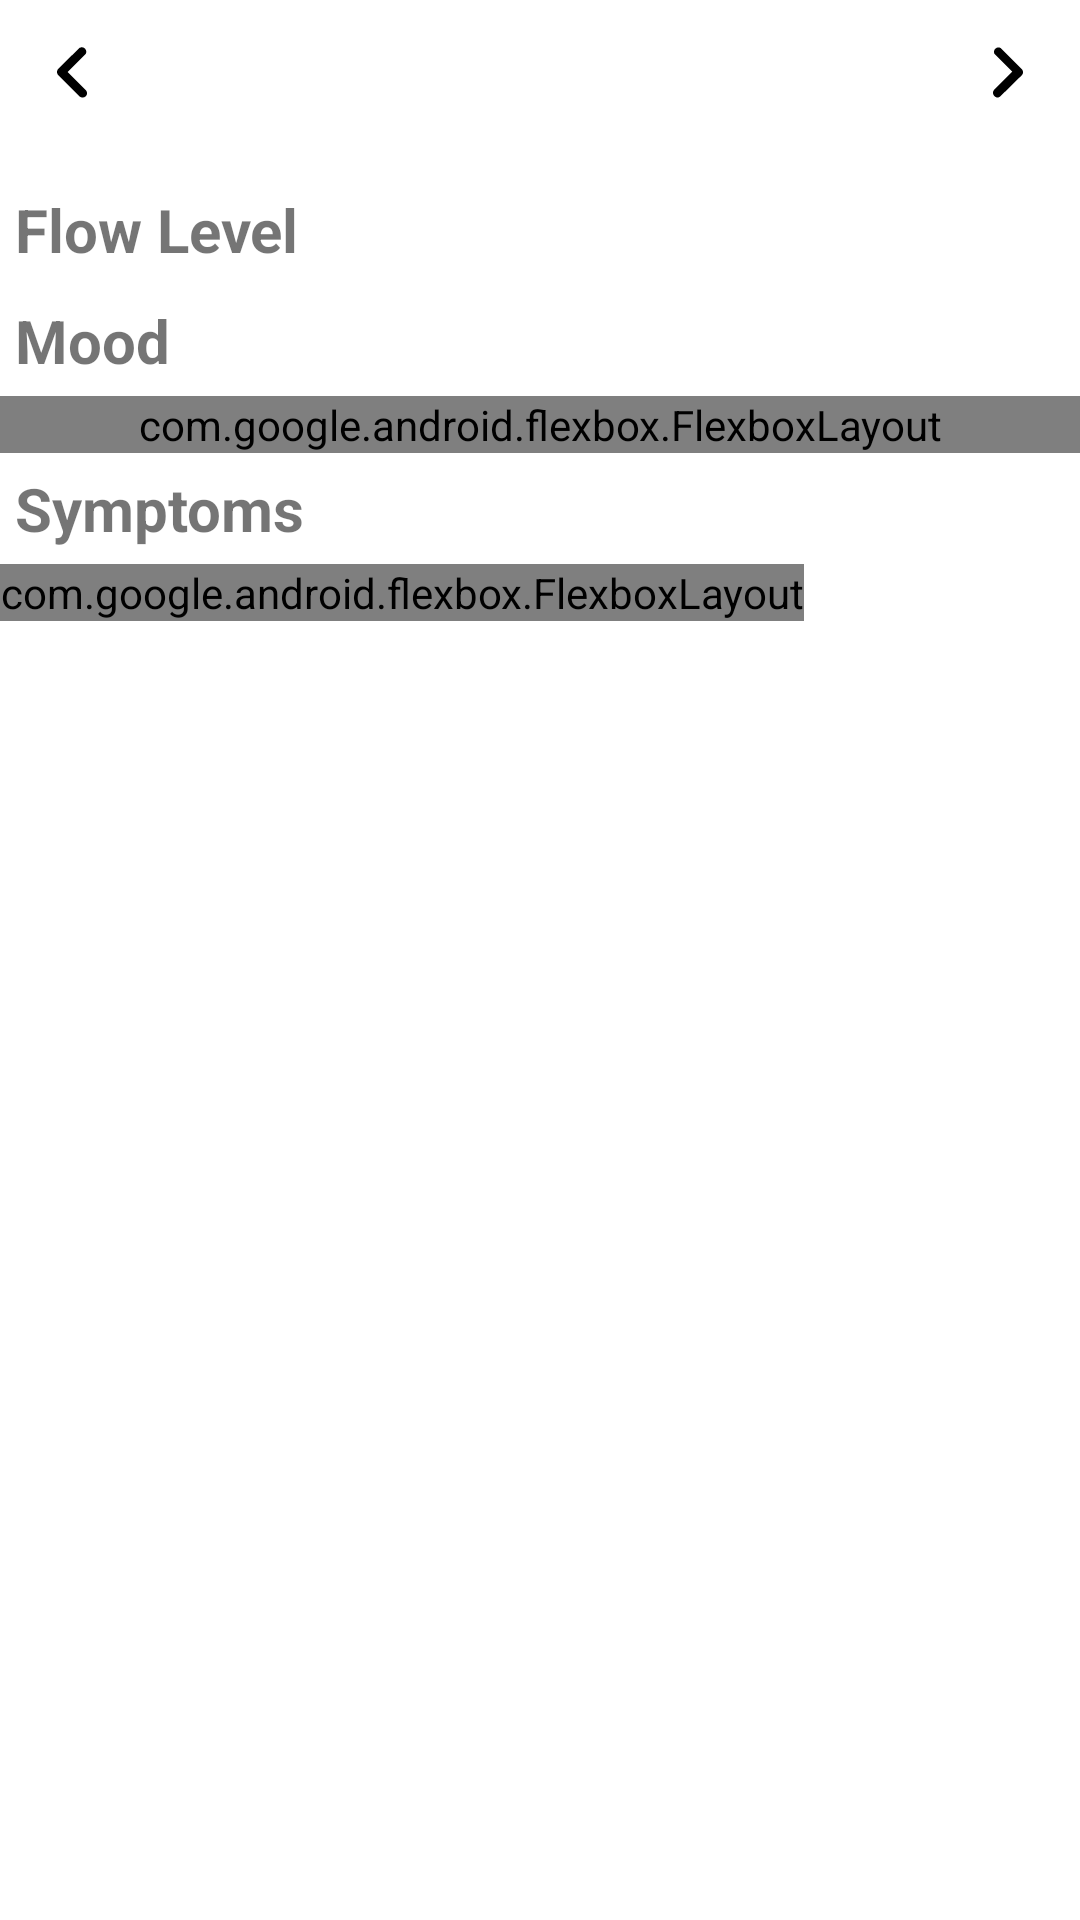

Icons on this 1080px x 1920px Android screen, each with its box as rect(x1, y1, x2, y2):
Next day: rect(993, 47, 1023, 98)
Previous day: rect(57, 47, 87, 98)
